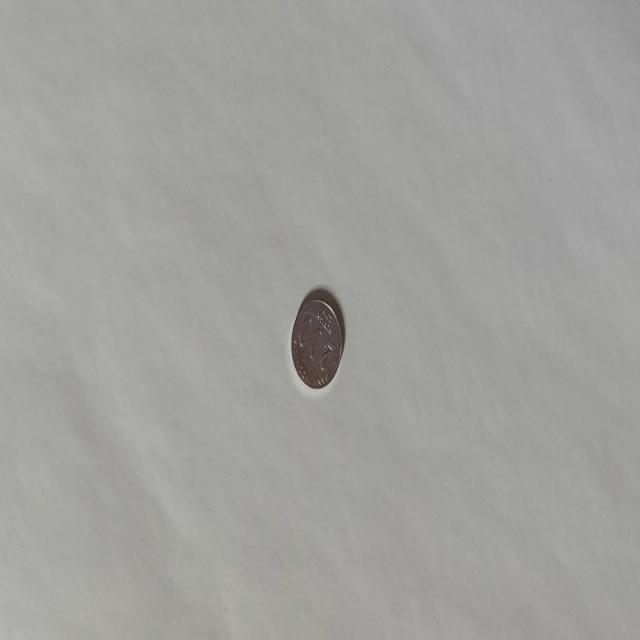dua ratus rupiah: (290, 295, 342, 389)
